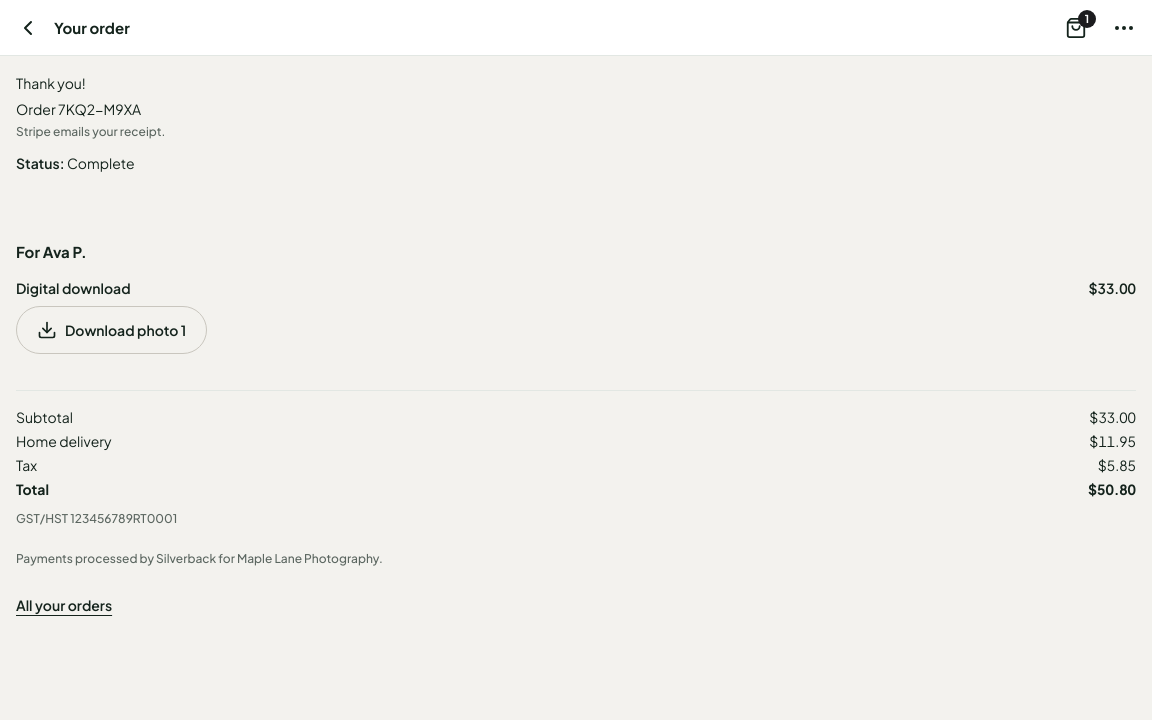
Scenario: the order page (ADR 0023 §6) › says a download is unavailable when its file couldn't be made
Click the button "Download photo 1" at [112, 330], box [16,306,207,354]
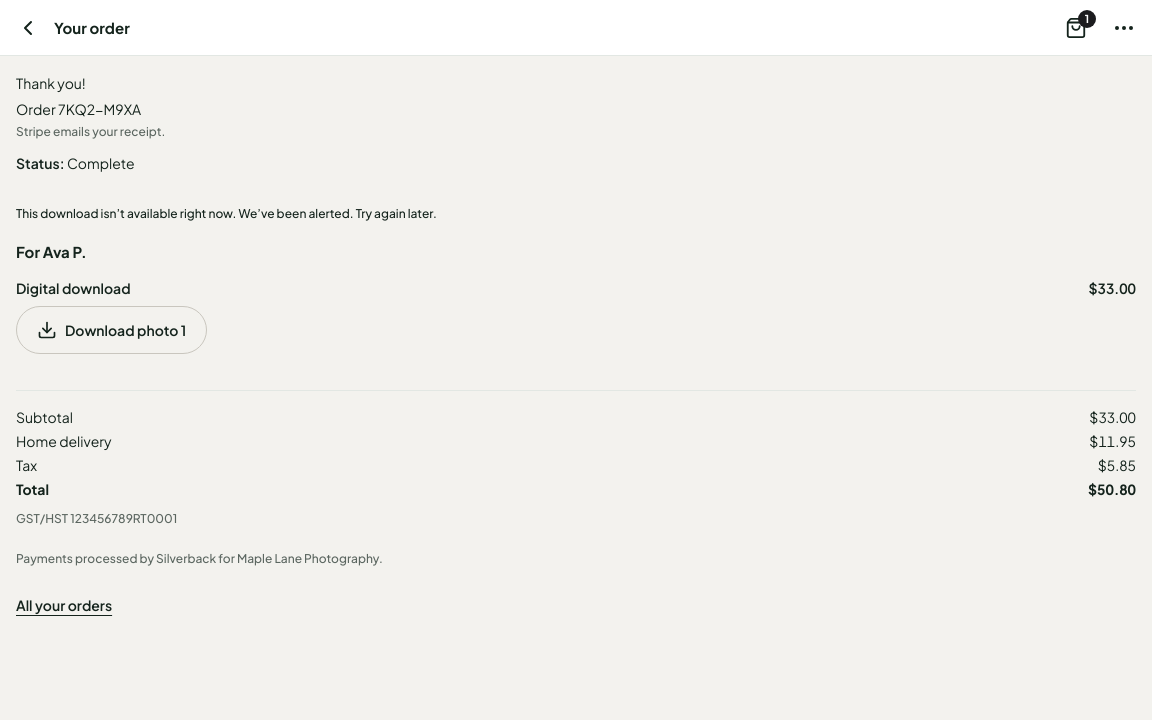
Check: the text "This download isn’t available right now. We’ve been alerted. Try again later." is shown, box [16,206,437,221]
